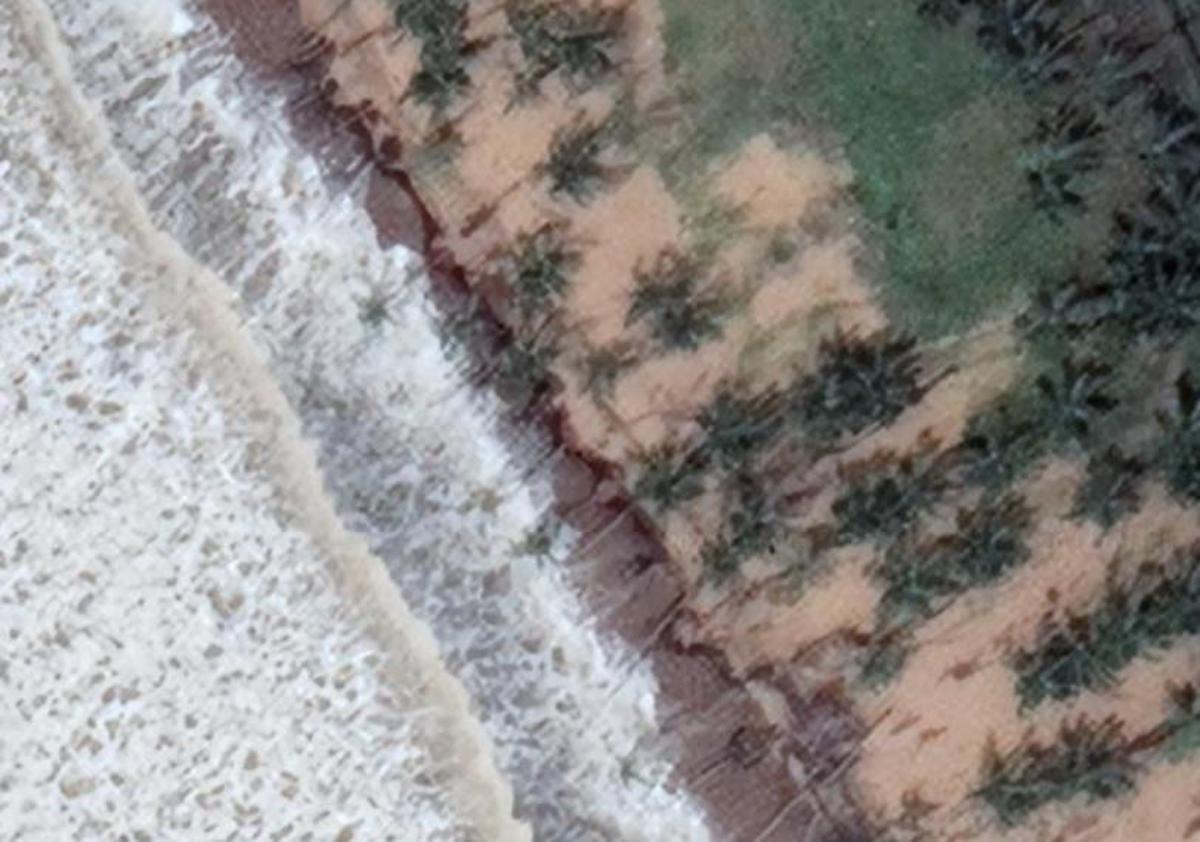coconut: (972, 0, 1090, 109), (999, 267, 1114, 373), (824, 324, 923, 428), (623, 257, 721, 353), (1019, 361, 1117, 454), (938, 496, 1037, 586), (1009, 109, 1098, 209), (678, 378, 774, 468), (1106, 267, 1200, 358), (1074, 565, 1176, 648), (866, 528, 956, 621), (947, 410, 1040, 500), (517, 0, 611, 88), (963, 729, 1044, 830), (1056, 709, 1146, 799), (523, 121, 619, 203), (481, 227, 576, 305), (1074, 438, 1151, 530), (477, 311, 555, 401), (619, 443, 706, 521), (1016, 618, 1105, 691), (713, 480, 787, 565), (396, 39, 472, 118), (824, 477, 897, 552), (574, 320, 645, 397), (1142, 178, 1200, 262), (1143, 670, 1200, 750)
